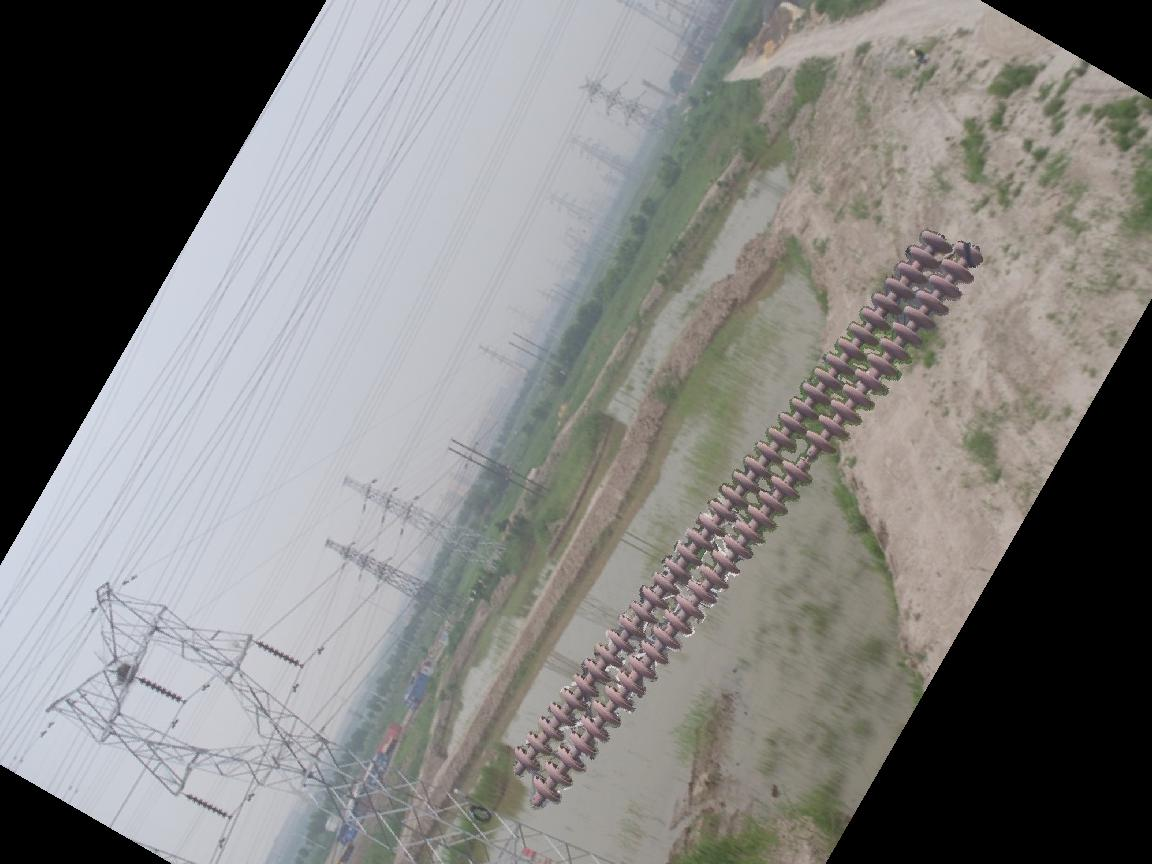insulator: (511, 225, 987, 811), (253, 639, 302, 671), (138, 674, 185, 705), (182, 791, 230, 821)
insulator_stringdrop: (778, 426, 842, 485)
